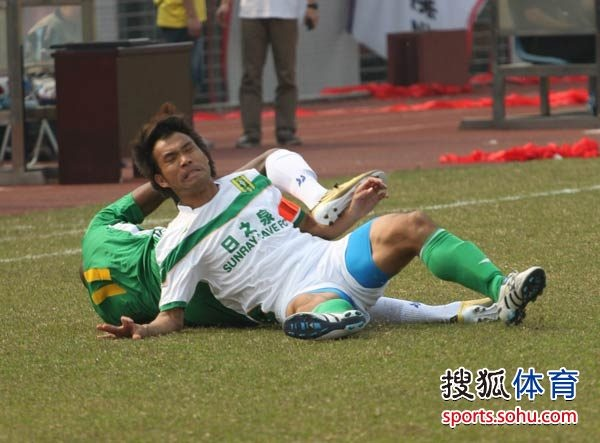falling: (90, 107, 557, 344)
